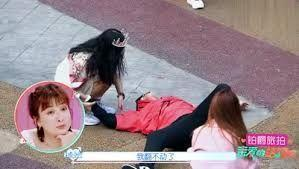Fall-Detected: (81, 75, 245, 163)
